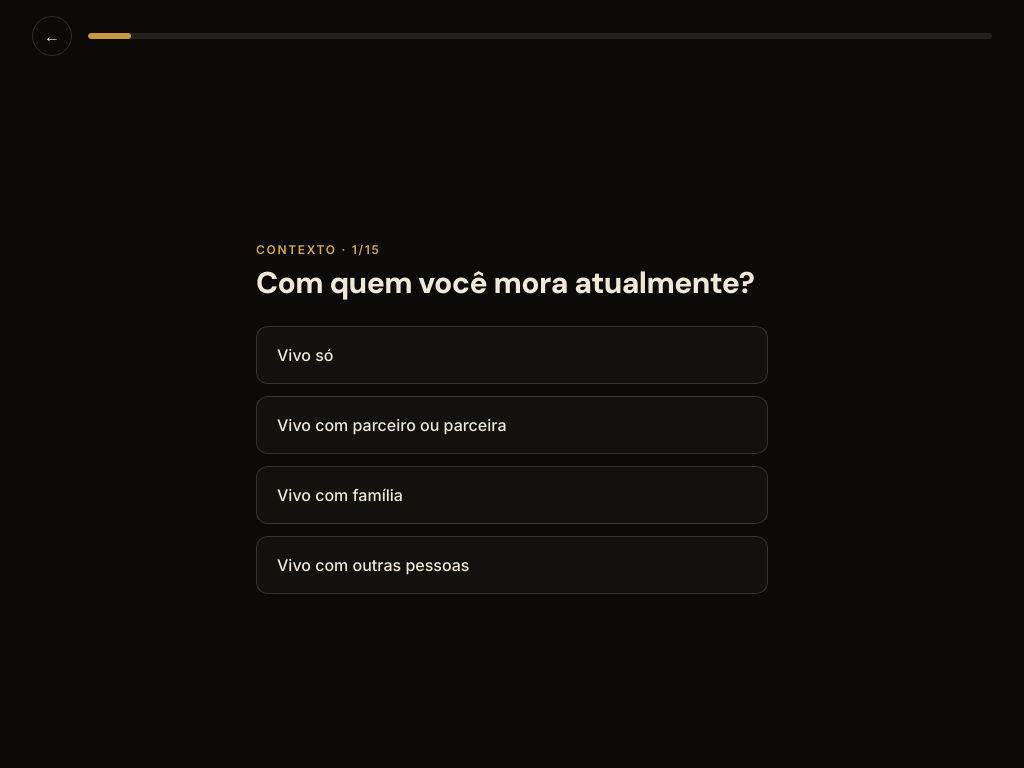
Scenario: /quiz — fluxo navegável (estrutura de homologação) › voltar após responder a primeira pergunta retorna a ela
This screenshot has width=1024, height=768.
Click the radio button labelled "Vivo só": (305, 355) [256,326,768,384]
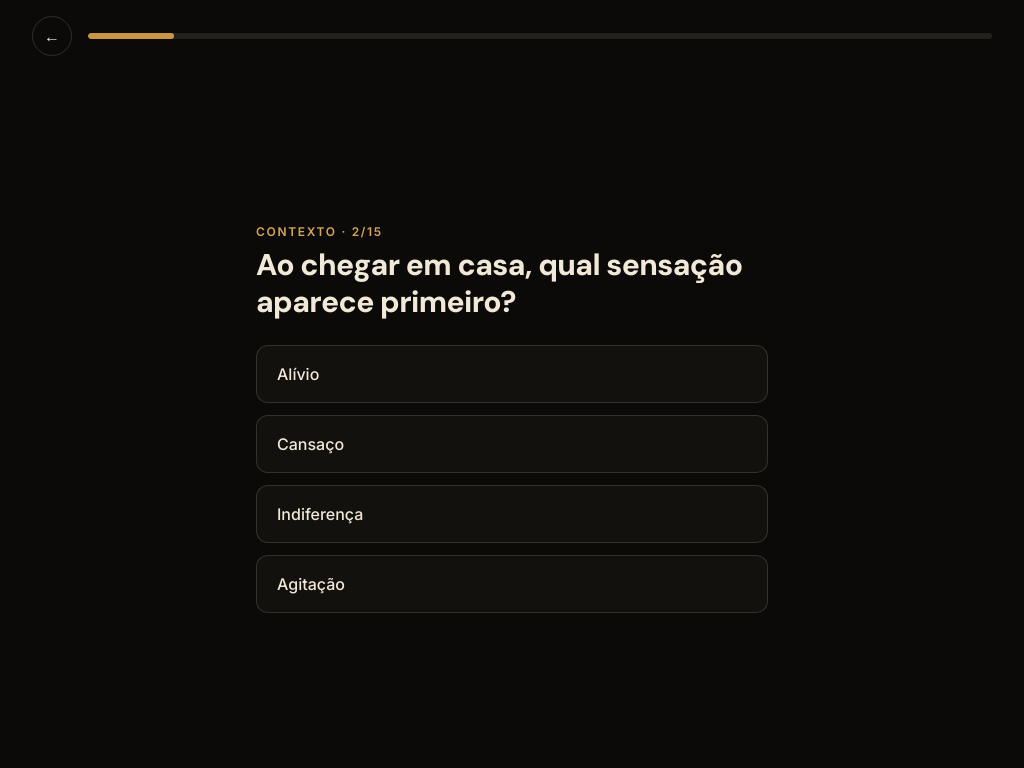
Click the button named "Voltar": (52, 36) [32,16,72,56]
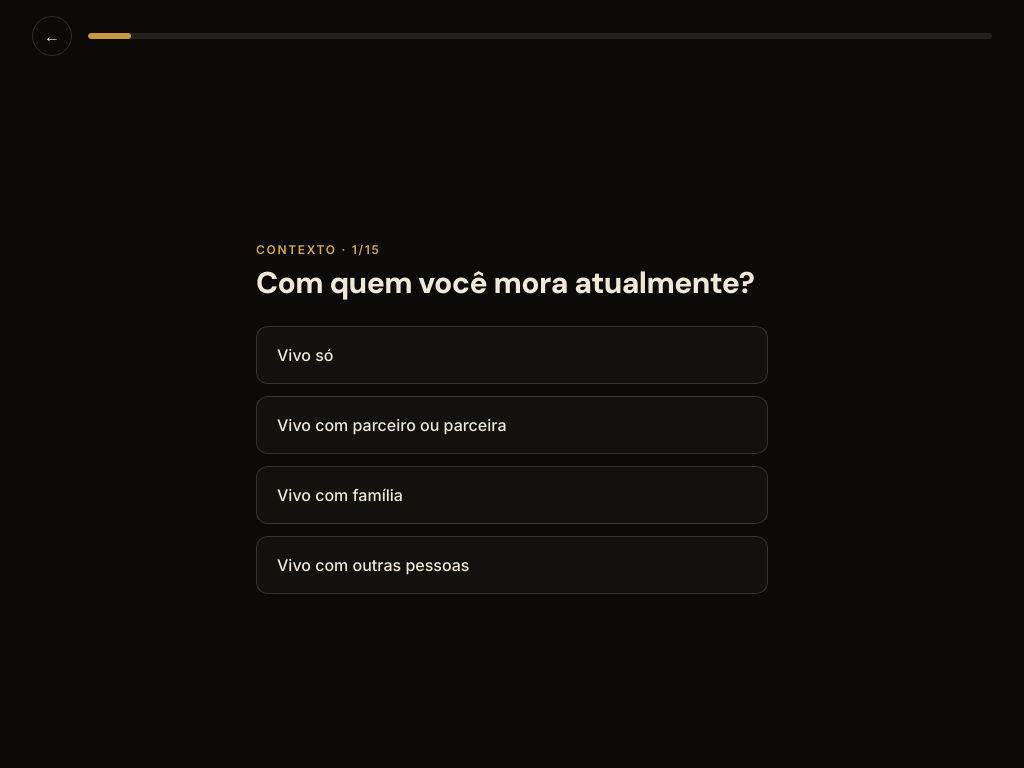
Check: the heading "Com quem você mora atualmente?" is shown, box [256,264,768,302]
